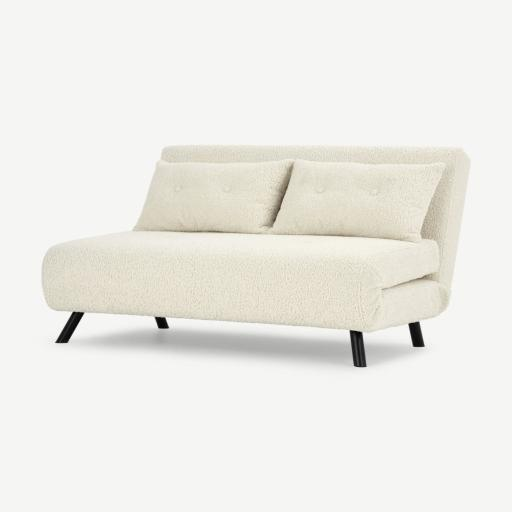back_cushion: (135, 157, 444, 242)
legs: (56, 312, 83, 343), (350, 330, 366, 367), (409, 322, 424, 347), (155, 317, 168, 328)
seat_cushion: (42, 231, 447, 332)
two-seater: (0, 0, 511, 512)
